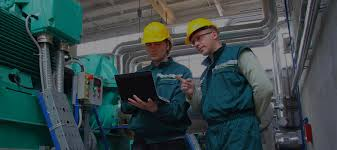Person_wearing_helmet: (136, 17, 171, 49), (184, 16, 216, 42)
